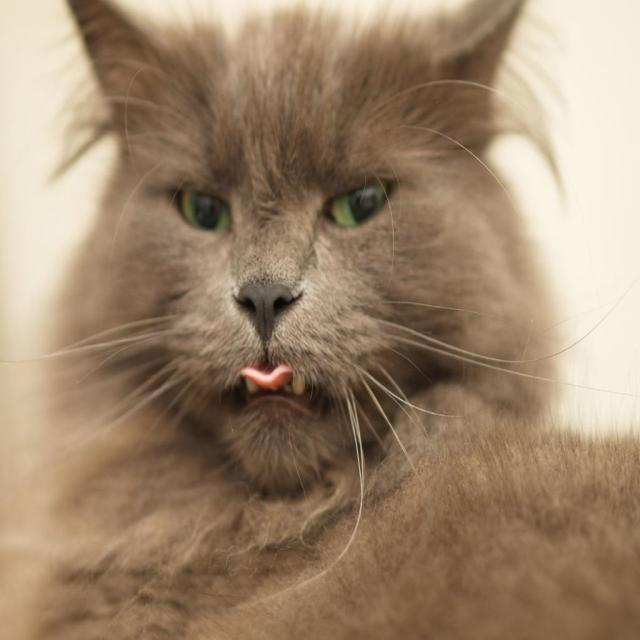Cat: (7, 0, 637, 638)
